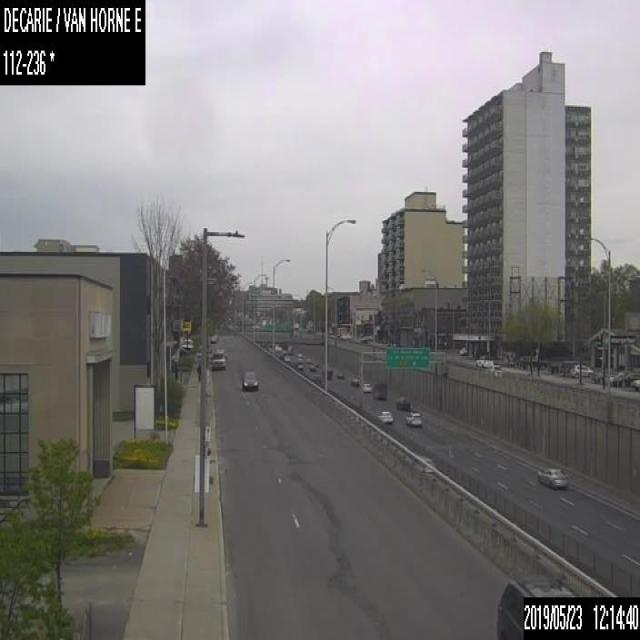pedestrian: (196, 361, 201, 380)
vehicle: (494, 574, 574, 638), (536, 467, 568, 488), (614, 372, 638, 387), (241, 368, 258, 389), (568, 363, 593, 376), (209, 346, 225, 366), (406, 410, 421, 425), (376, 409, 392, 423), (371, 382, 385, 398), (396, 396, 410, 409), (321, 364, 333, 379), (475, 354, 489, 366), (180, 338, 192, 349), (349, 374, 359, 386), (279, 352, 290, 362), (632, 378, 639, 391), (362, 382, 370, 392), (274, 342, 282, 351), (309, 364, 318, 372), (210, 332, 217, 342), (458, 346, 466, 354), (336, 372, 344, 379), (297, 362, 304, 369)
